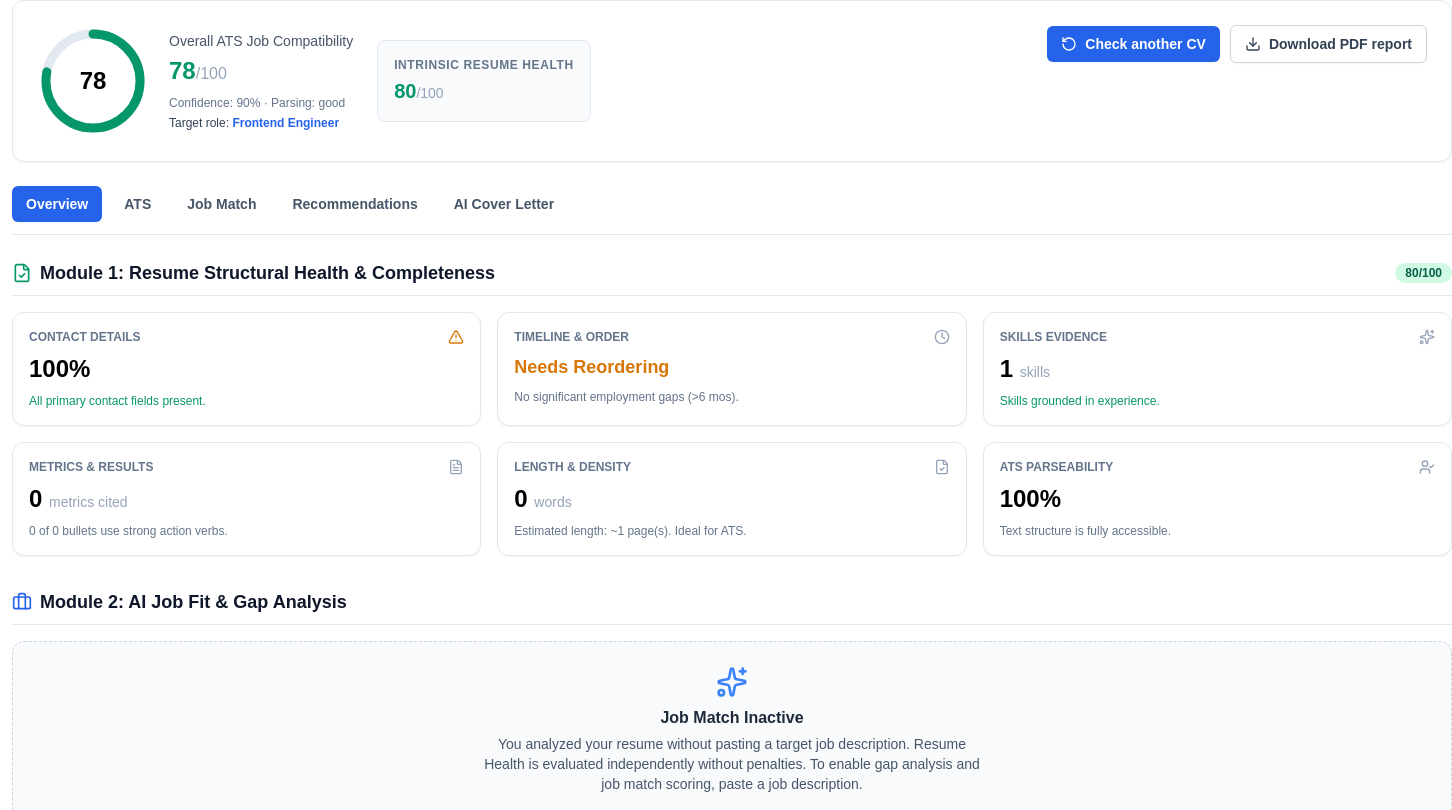
results dashboard › exposes the score and transparent weighted breakdown
This screenshot has width=1452, height=810.
Expected: the picture named "ATS Compatibility Score: 78 out of 100" is shown, [37,25,149,137]
Click the tab "ATS" at (138, 204), box [110,186,165,222]
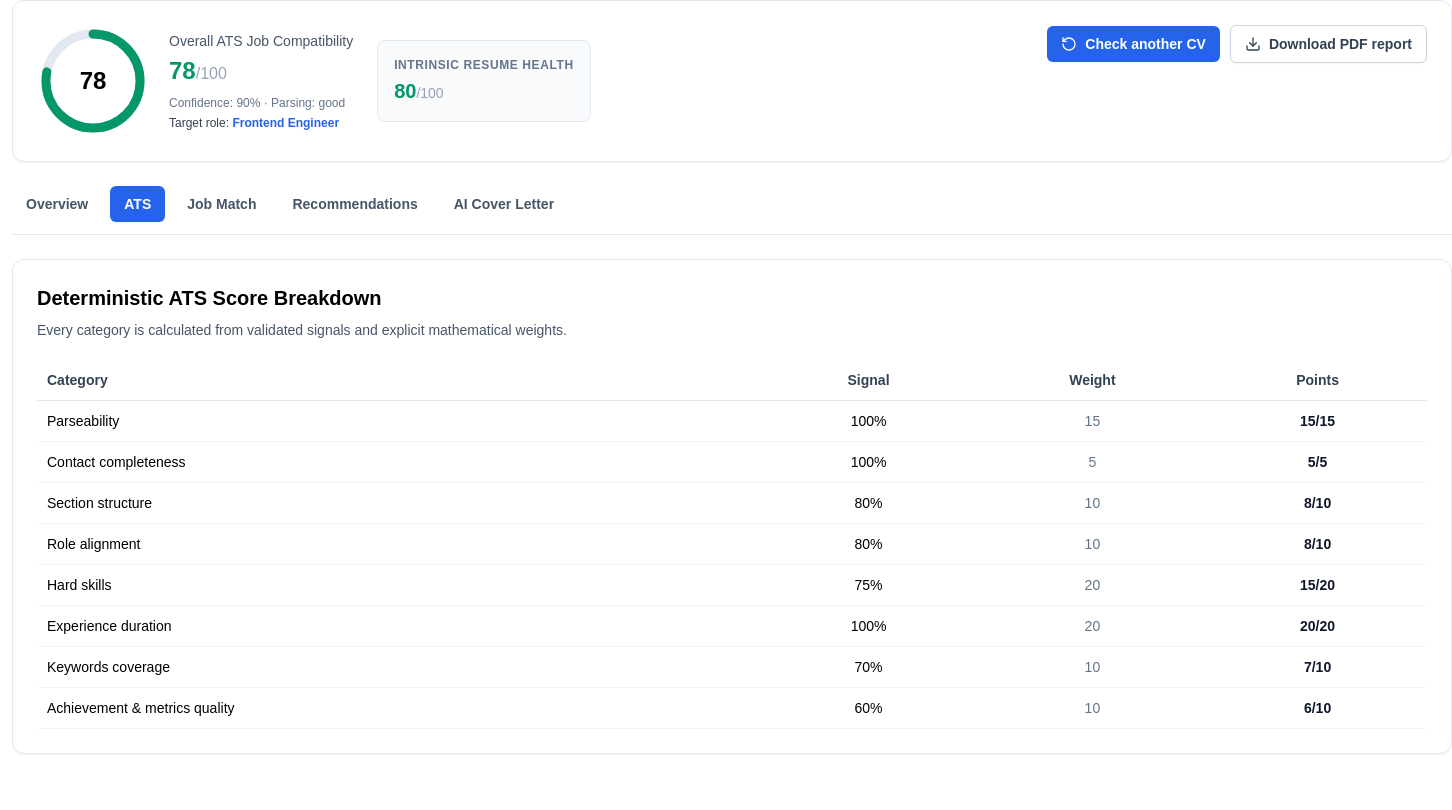
Result: the column heading "Weight" is shown at [977,360,1208,400]
Result: the text "20/20" is shown at [1208,606,1427,646]
